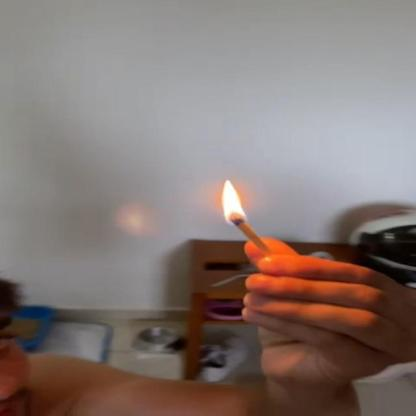fire: (217, 175, 250, 231)
